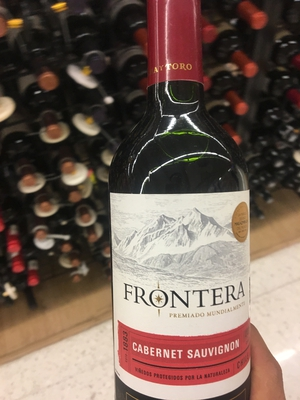frontera cabernet sauvignon: (97, 10, 264, 400)
